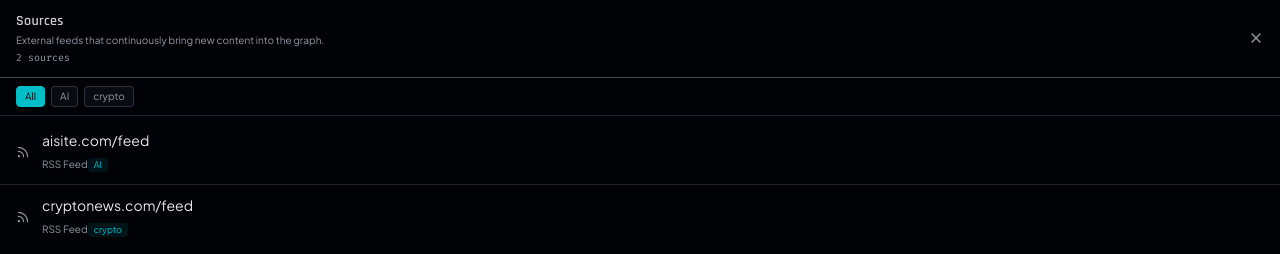
Test: SourcesPanel — filter chips › filters source rows when a category chip is clicked
Click the button "AI" at (65, 96), box [51,86,78,107]
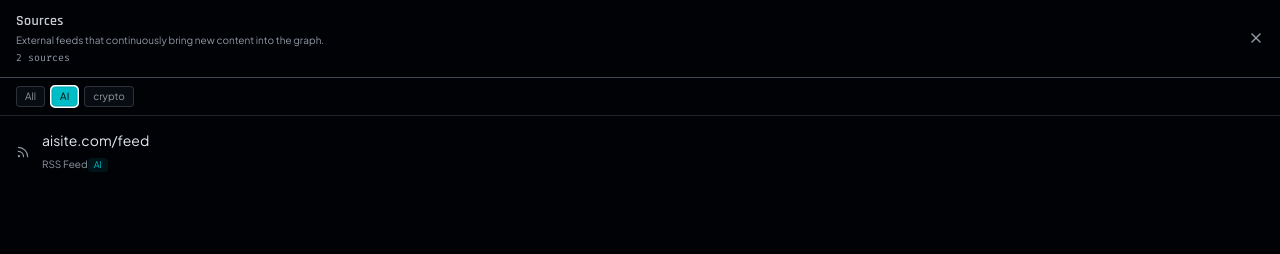
Expected: the link "aisite.com/feed" is shown, [42,131,149,149]
Result: the link "cryptonews.com/feed" is gone
